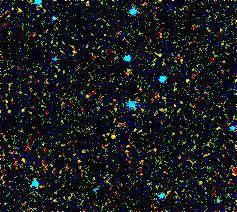star: (100, 121, 130, 151)
